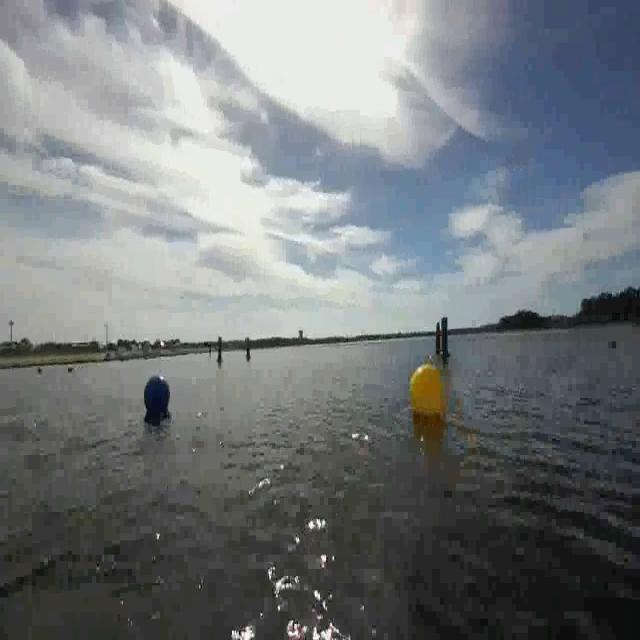blue-buoy: (146, 375, 171, 413)
green-column-buoy: (441, 318, 452, 360), (218, 335, 224, 366)
red-column-buoy: (436, 320, 442, 357), (244, 336, 252, 362)
yellow-buoy: (409, 362, 445, 418)
